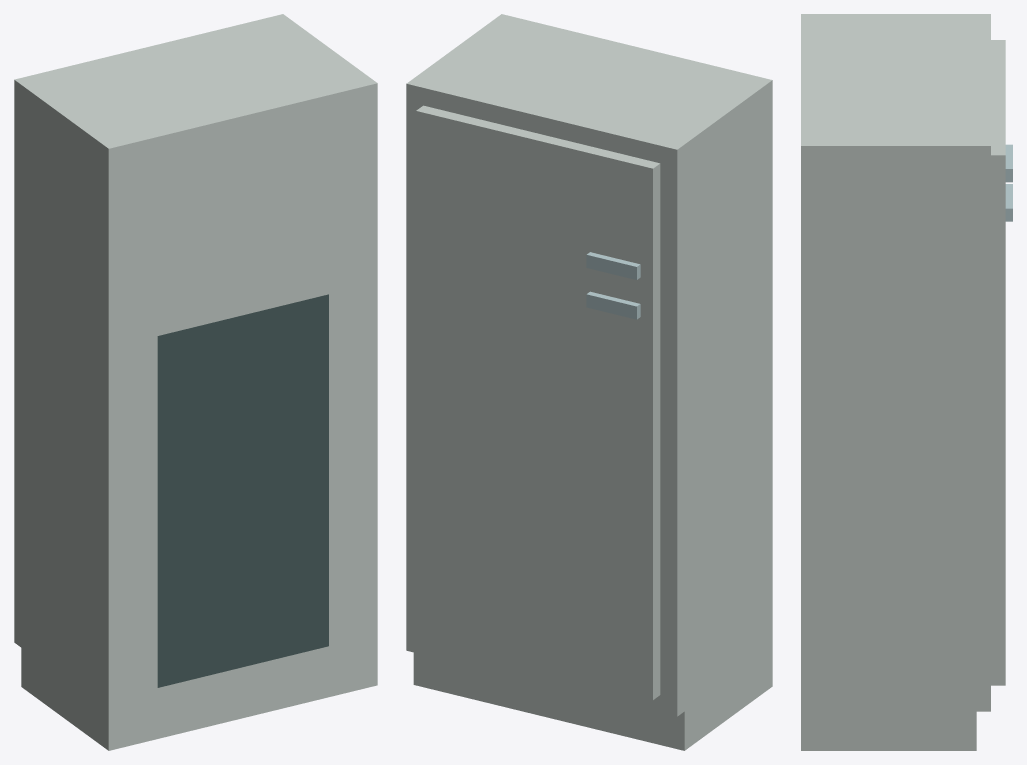
Rendered from kitchenfridge.gltf.
3 renders of one model, left to right at view 1: azimuth 30°, elevation 25°; view 2: azimuth 150°, elevation 25°; view 3: azimuth 270°, elevation 25°, orthographic.
Visible parts, largest first — view 1: kitchenfridge; view 2: kitchenfridge; view 3: kitchenfridge.
Boxes of the visible parts, left/top/right/bottom form: kitchenfridge: left=14, top=14, right=377, bottom=750; kitchenfridge: left=406, top=14, right=772, bottom=750; kitchenfridge: left=801, top=14, right=1012, bottom=750.
Size of the model in its own units: 0.43 by 0.92 by 0.2919.
Materials: 1 (1 with a texture image).
